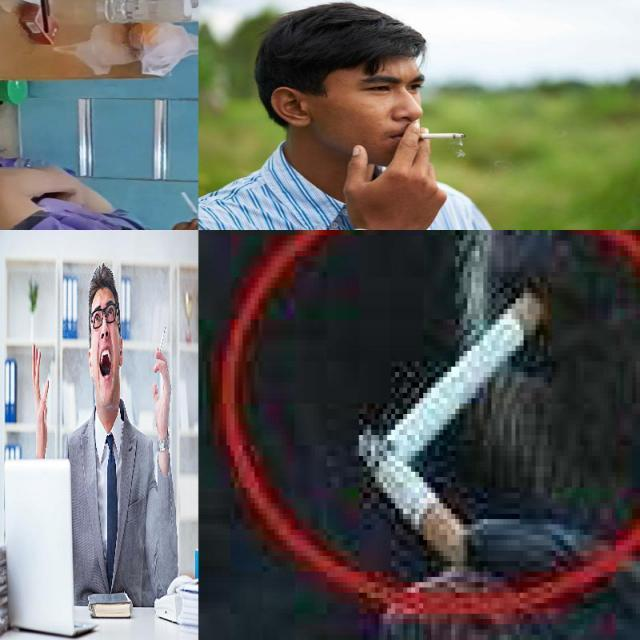cigarette: (382, 285, 554, 464), (356, 426, 474, 566), (180, 192, 198, 222), (404, 133, 467, 140), (156, 326, 166, 365)
